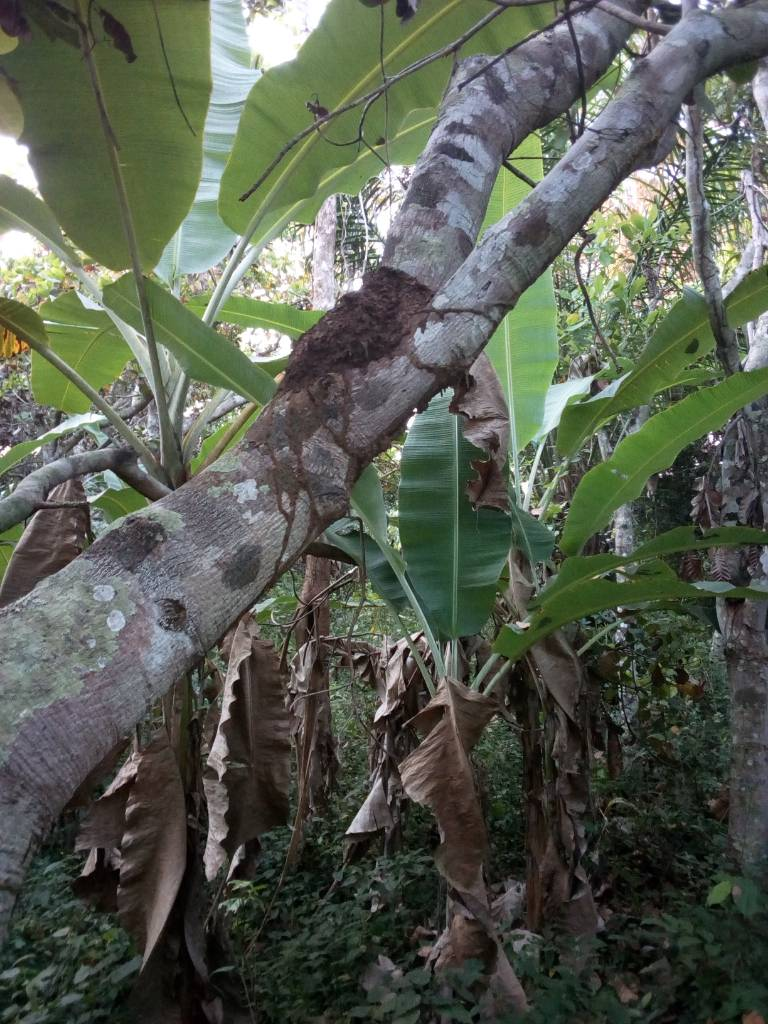Termites: (288, 269, 411, 388), (272, 405, 358, 561), (433, 360, 463, 392)
